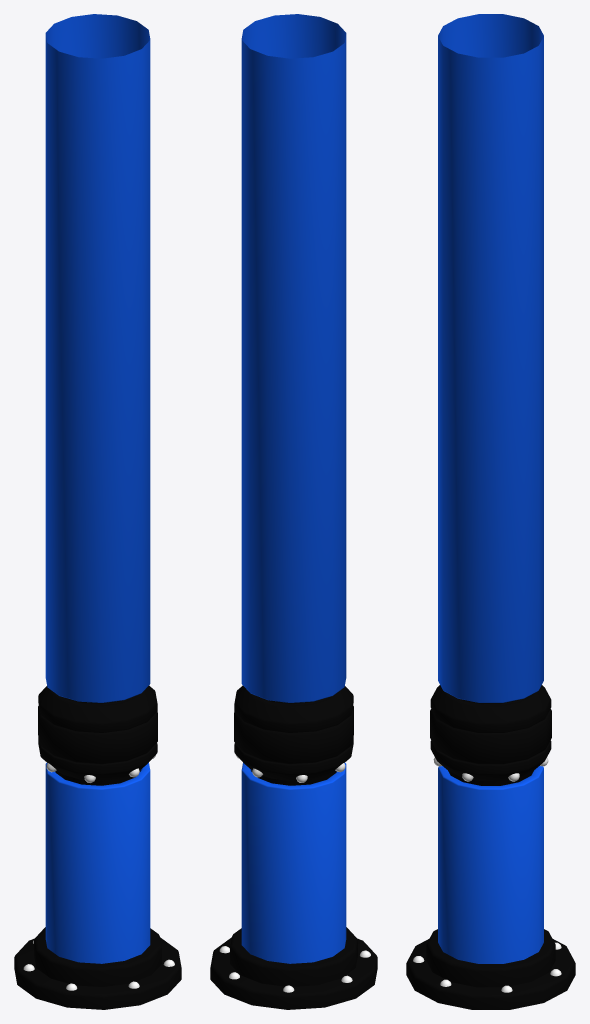
Rendered from LevelRework_BigTube_BaseBaked.fbx.
3 renders of one model, left to right at view 1: azimuth 30°, elevation 25°; view 2: azimuth 150°, elevation 25°; view 3: azimuth 270°, elevation 25°, orthographic.
Parts seen in each view (by area): view 1: BigTube_TopPartBaked, BigTube_BottomPartBaked, BigTube_BaseBaked, BigTube_ConnectorMiddleBaked, BigTube_ConnectopTopBaked, BigTube_BaseRingBaked, BigTube_ConnectorBottomBaked; view 2: BigTube_TopPartBaked, BigTube_BottomPartBaked, BigTube_BaseBaked, BigTube_ConnectorMiddleBaked, BigTube_ConnectopTopBaked, BigTube_BaseRingBaked, BigTube_ConnectorBottomBaked; view 3: BigTube_TopPartBaked, BigTube_BottomPartBaked, BigTube_BaseBaked, BigTube_ConnectorMiddleBaked, BigTube_ConnectopTopBaked, BigTube_BaseRingBaked, BigTube_ConnectorBottomBaked.
Part boxes in pixels (x1,y1,x2,y2): BigTube_TopPartBaked: [45, 14, 150, 702]; BigTube_BottomPartBaked: [45, 762, 150, 963]; BigTube_BaseBaked: [14, 937, 181, 1009]; BigTube_ConnectorMiddleBaked: [38, 705, 157, 764]; BigTube_ConnectopTopBaked: [38, 685, 157, 732]; BigTube_BaseRingBaked: [34, 927, 161, 986]; BigTube_ConnectorBottomBaked: [38, 737, 157, 785]; BigTube_TopPartBaked: [241, 14, 346, 702]; BigTube_BottomPartBaked: [241, 762, 346, 963]; BigTube_BaseBaked: [210, 937, 377, 1009]; BigTube_ConnectorMiddleBaked: [234, 705, 353, 764]; BigTube_ConnectopTopBaked: [234, 685, 353, 732]; BigTube_BaseRingBaked: [230, 927, 357, 986]; BigTube_ConnectorBottomBaked: [234, 737, 353, 785]; BigTube_TopPartBaked: [438, 14, 543, 702]; BigTube_BottomPartBaked: [438, 766, 543, 963]; BigTube_BaseBaked: [406, 939, 575, 1009]; BigTube_ConnectorMiddleBaked: [430, 709, 551, 764]; BigTube_ConnectopTopBaked: [430, 685, 551, 732]; BigTube_BaseRingBaked: [426, 929, 555, 987]; BigTube_ConnectorBottomBaked: [430, 740, 551, 785].
Size of the model in its own units: 137 by 858 by 140.
